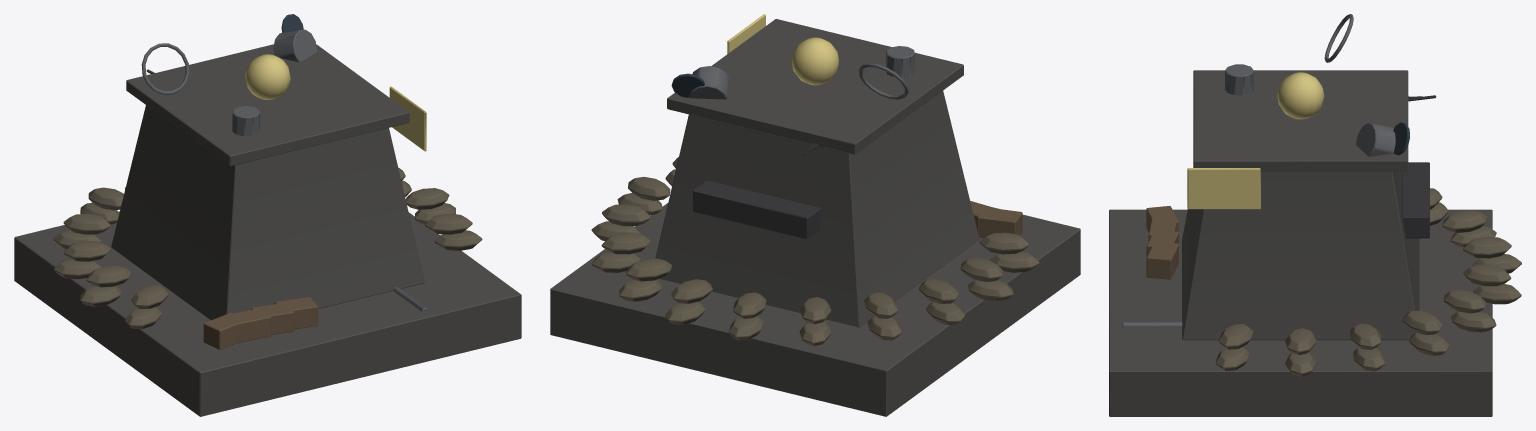
File: base_bunker.glb
3 views of the same model, side by side, from view 1: azimuth 30°, elevation 25°; view 2: azimuth 150°, elevation 25°; view 3: azimuth 270°, elevation 25° (orthographic). The views are drawn at different scales.
Visible parts, largest first — view 1: BaseBunker; view 2: BaseBunker; view 3: BaseBunker.
Boxes of the visible parts, left/top/right/bottom form: BaseBunker: left=14, top=14, right=521, bottom=416; BaseBunker: left=550, top=14, right=1080, bottom=416; BaseBunker: left=1109, top=14, right=1521, bottom=416.
Size of the model in its own units: 7.95 by 5.42 by 7.32.
